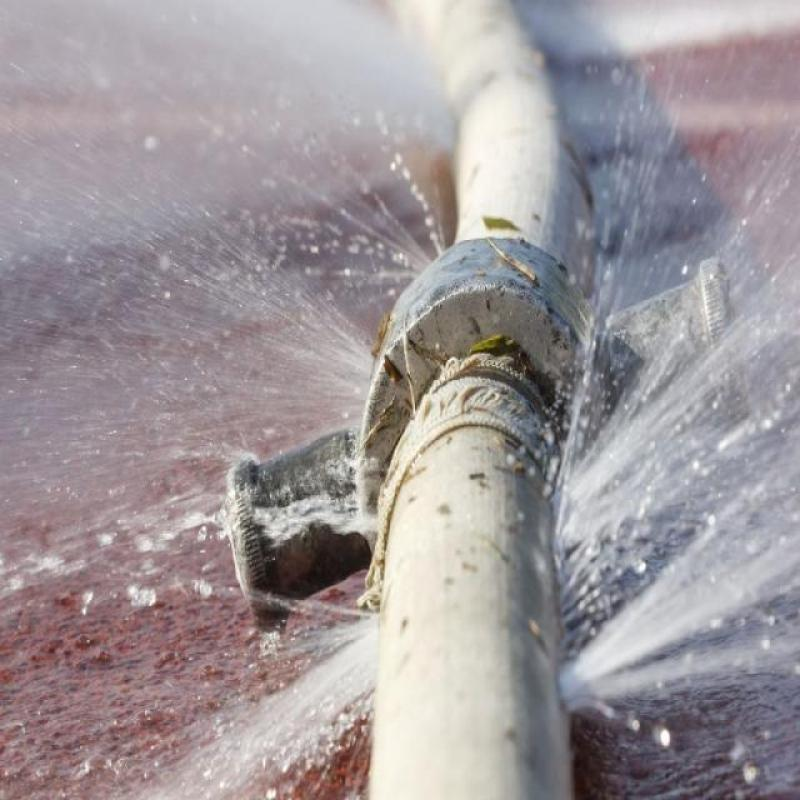Fracture: (236, 212, 681, 666)
